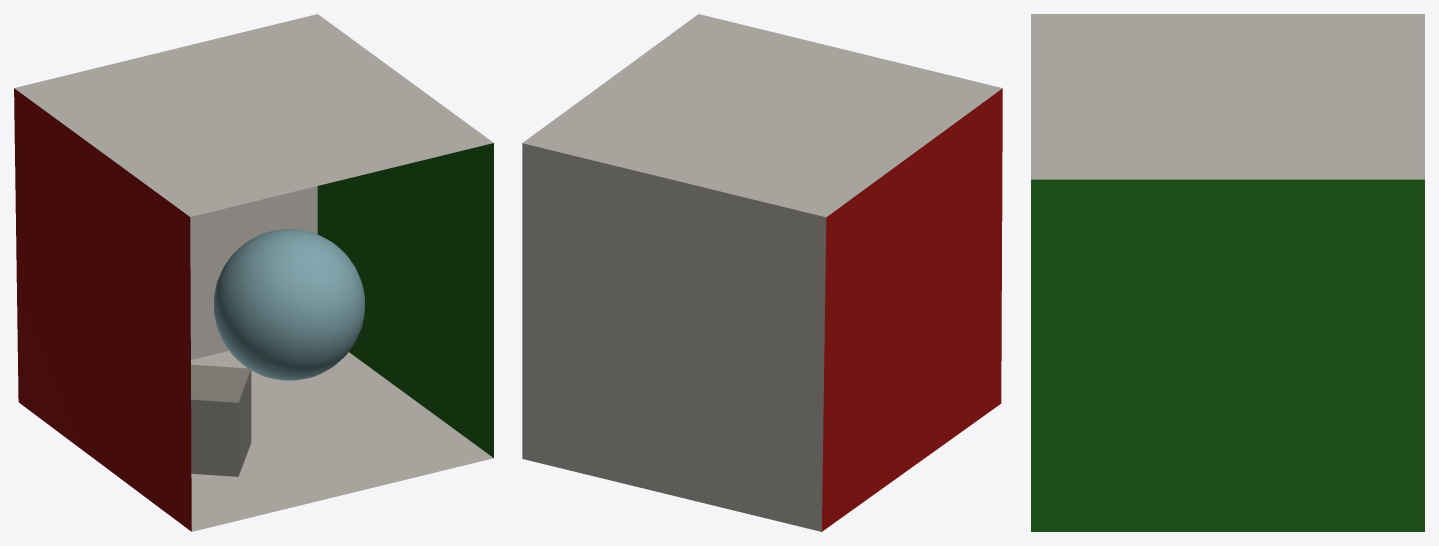
The model's file is Cornell_box_glossy_floor.obj.
The picture shows the model from 3 angles, left to right: view 1: azimuth 30°, elevation 25°; view 2: azimuth 150°, elevation 25°; view 3: azimuth 270°, elevation 25°; orthographic projection. The views are drawn at different scales.
Parts seen in each view (by area): view 1: CornellBox-Glossy-Floor_CornellBox-Glossy-Floor_leftWall.003, CornellBox-Glossy-Floor_CornellBox-Glossy-Floor_ceiling.003, CornellBox-Glossy-Floor_CornellBox-Glossy-Floor_rightWall.003, CornellBox-Glossy-Floor_CornellBox-Glossy-Floor_floor.003, CornellBox-Glossy-Floor_CornellBox-Glossy-Floor_sphere.001, CornellBox-Glossy-Floor_CornellBox-Glossy-Floor_backWall.003, CornellBox-Glossy-Floor_CornellBox-Glossy-Floor_shortBox.002; view 2: CornellBox-Glossy-Floor_CornellBox-Glossy-Floor_backWall.003, CornellBox-Glossy-Floor_CornellBox-Glossy-Floor_leftWall.003, CornellBox-Glossy-Floor_CornellBox-Glossy-Floor_ceiling.003; view 3: CornellBox-Glossy-Floor_CornellBox-Glossy-Floor_rightWall.003, CornellBox-Glossy-Floor_CornellBox-Glossy-Floor_ceiling.003.
Part boxes in pixels (x1,y1,x2,y2): CornellBox-Glossy-Floor_CornellBox-Glossy-Floor_leftWall.003: [14, 88, 191, 531]; CornellBox-Glossy-Floor_CornellBox-Glossy-Floor_ceiling.003: [14, 14, 493, 216]; CornellBox-Glossy-Floor_CornellBox-Glossy-Floor_rightWall.003: [317, 143, 493, 457]; CornellBox-Glossy-Floor_CornellBox-Glossy-Floor_floor.003: [191, 351, 493, 531]; CornellBox-Glossy-Floor_CornellBox-Glossy-Floor_sphere.001: [214, 229, 364, 380]; CornellBox-Glossy-Floor_CornellBox-Glossy-Floor_backWall.003: [190, 186, 317, 359]; CornellBox-Glossy-Floor_CornellBox-Glossy-Floor_shortBox.002: [191, 364, 251, 476]; CornellBox-Glossy-Floor_CornellBox-Glossy-Floor_backWall.003: [522, 143, 826, 531]; CornellBox-Glossy-Floor_CornellBox-Glossy-Floor_leftWall.003: [821, 88, 1002, 531]; CornellBox-Glossy-Floor_CornellBox-Glossy-Floor_ceiling.003: [522, 14, 1002, 217]; CornellBox-Glossy-Floor_CornellBox-Glossy-Floor_rightWall.003: [1031, 179, 1424, 531]; CornellBox-Glossy-Floor_CornellBox-Glossy-Floor_ceiling.003: [1031, 14, 1424, 179].
Size of the model in its own units: 2.02 by 2 by 2.03.
